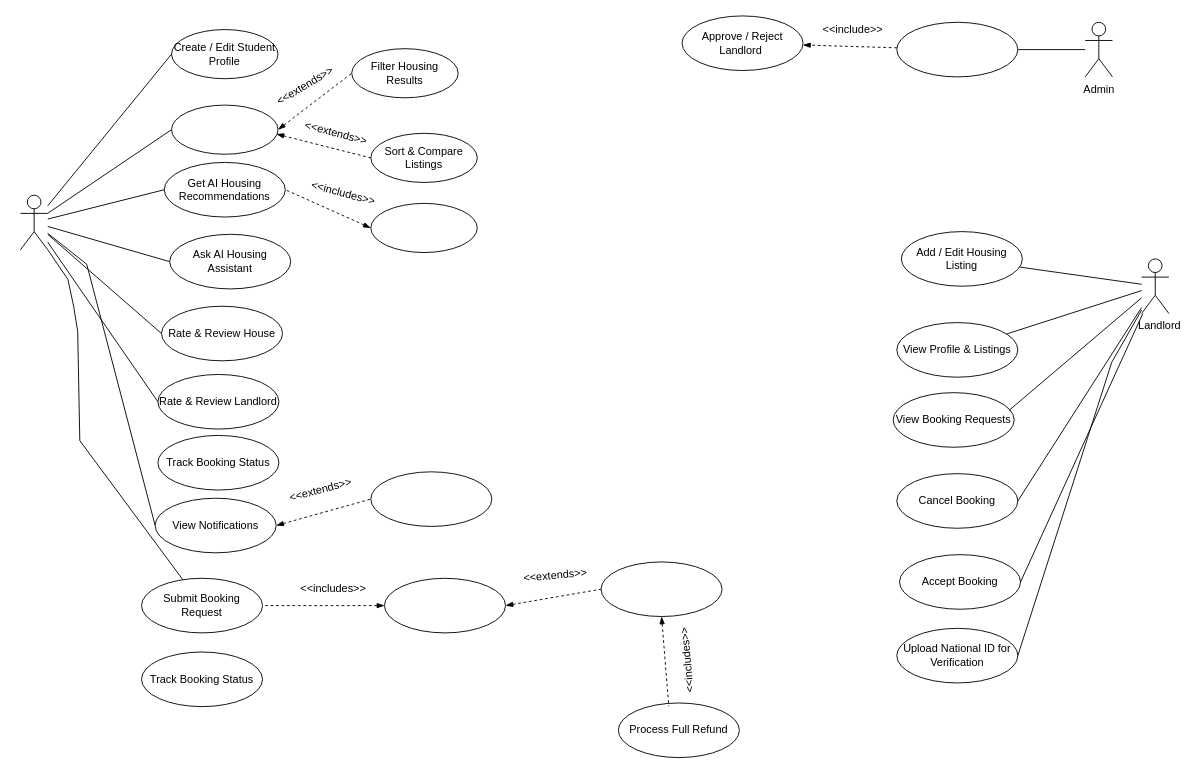
Some shapes in this 1203 by 774 pixel diagram are drawn without their labels. Here are the shapes that lost their labels. From the top down, the centre of each, then its label:
the point at 957,49: Review Landlord Information
the point at 224,129: View Houses
the point at 34,222: Student
the point at 423,227: View Match Explanation
the point at 431,498: Mark as read
the point at 445,605: Pay Online
the point at 661,589: Cancelled Booking
